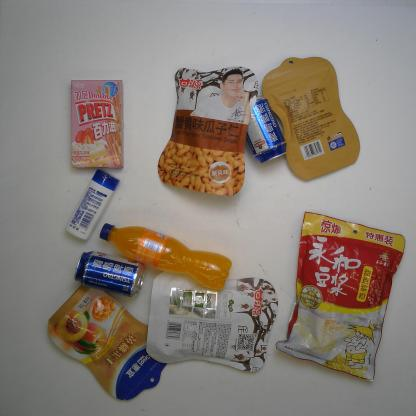Alcohol: (73, 250, 147, 298), (246, 94, 287, 166)
Dessert: (69, 78, 126, 170)
Dried Fruit: (46, 283, 168, 403), (156, 59, 257, 198), (144, 272, 280, 374), (260, 55, 362, 183)
Drink: (97, 223, 232, 294)
Instant Drink: (275, 209, 407, 384)
Personal Hygiene: (65, 168, 121, 242)
